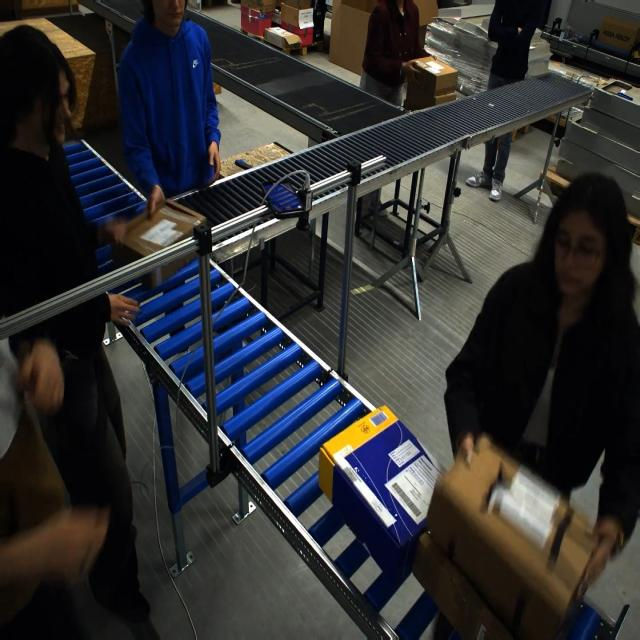box: (416, 432, 606, 640), (326, 414, 434, 584), (115, 201, 202, 266), (403, 56, 456, 111)
